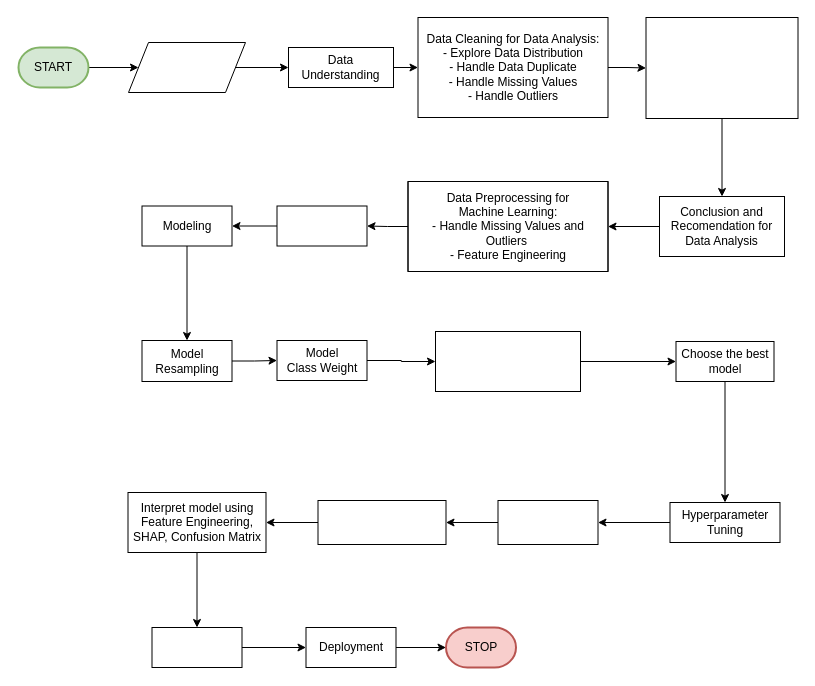
Some shapes in this 815 by 686 pixel diagram are drawn without their labels. The box of each missing label's shape, as (x1, y1, x2, y2) in pixels:
Data Analysis: - Multivariate Analysis - Bivariate Analysis: (645, 16, 798, 118)
Fit and predict best estimator: (497, 500, 598, 544)
Interpret model using Confusion Matrix: (434, 330, 580, 392)
Load Data: (128, 42, 246, 92)
Model Benchmark: (276, 205, 367, 246)
Model Evaluation and Final Model: (317, 500, 446, 544)
Save Model: (151, 626, 242, 668)
